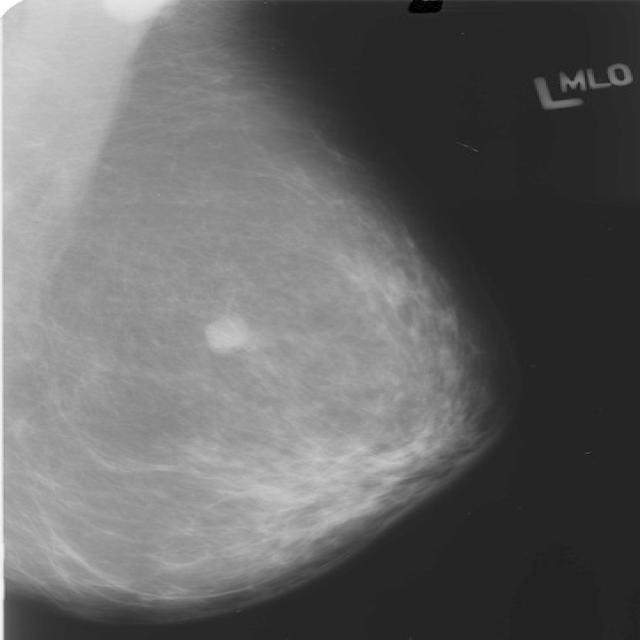tumour: (204, 314, 250, 352)
